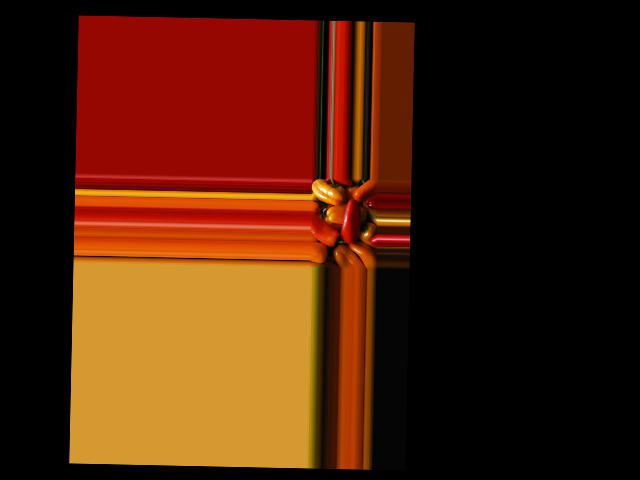bell_pepper: (312, 178, 343, 207)
